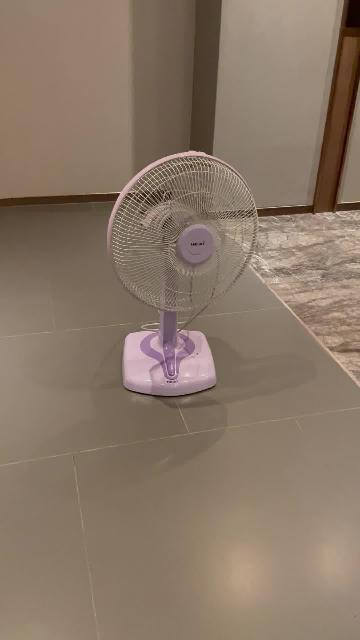Fan: (107, 151, 258, 398)
